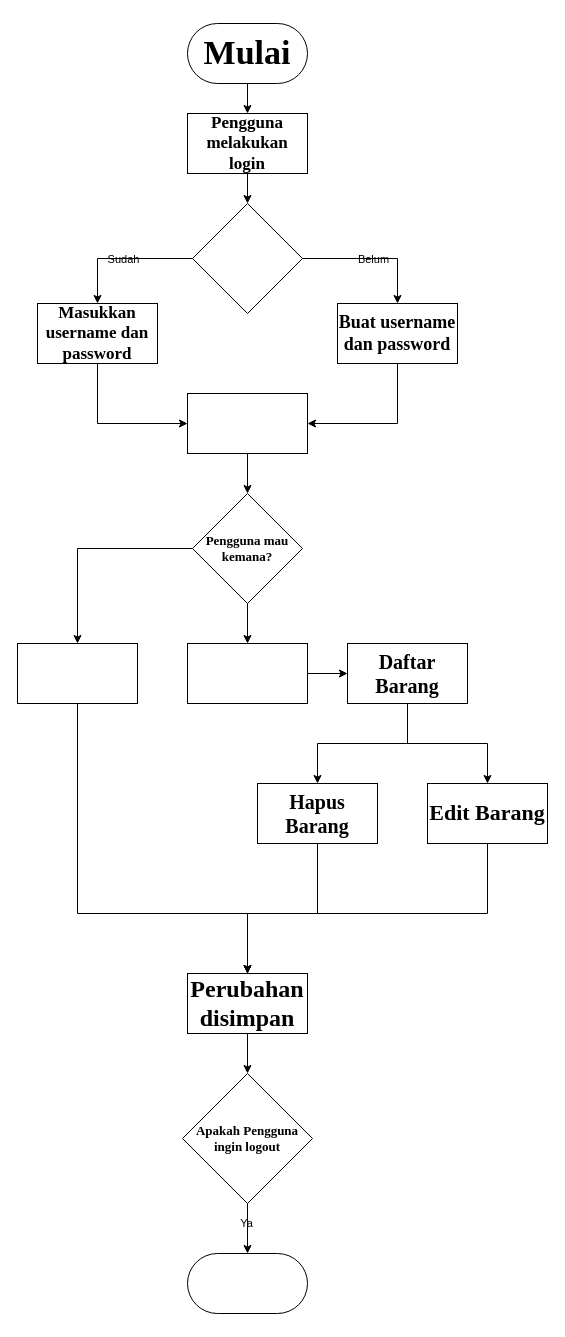
The diagram is 565 pixels wide and 1337 high, and some of its shapes have lost their labels. The centre of each missing label's shape, as x and y in pixels:
Apakah sudah memiliki akun?: pixel 247 258
Dashboard: pixel 247 423
Selesai: pixel 247 1283
Tambah Barang: pixel 247 673
Ubah Password: pixel 77 673
